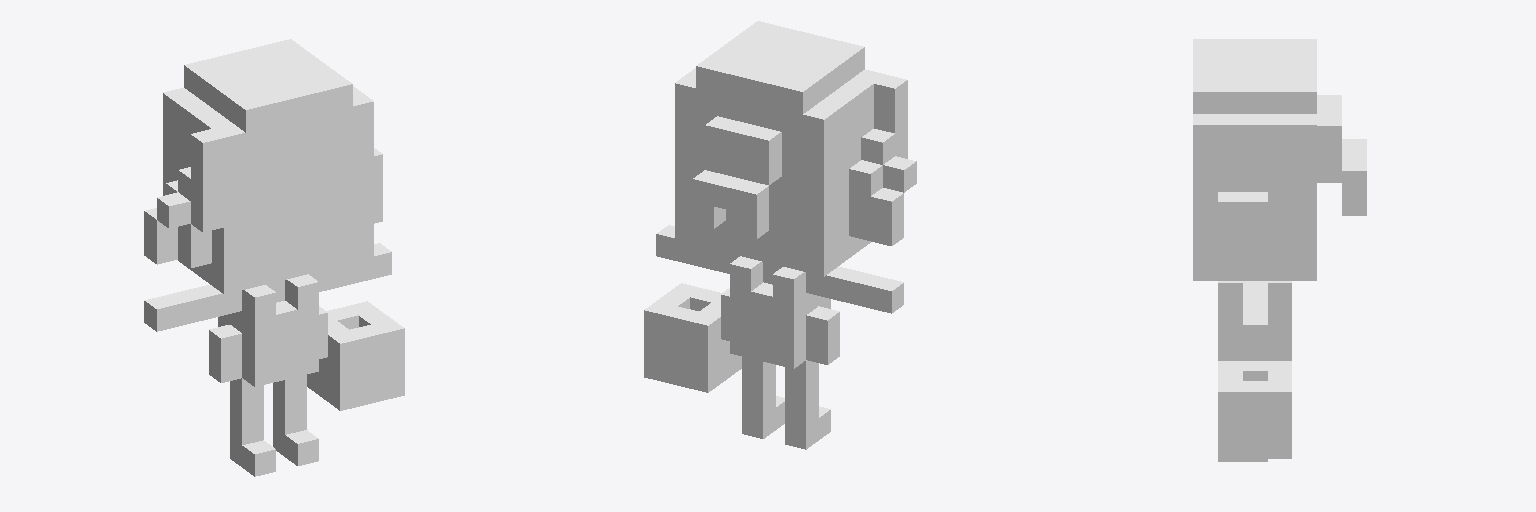
The model's file is robo_model_7.obj.
3 views of the same model, side by side, from view 1: azimuth 30°, elevation 25°; view 2: azimuth 150°, elevation 25°; view 3: azimuth 270°, elevation 25° (orthographic).
Parts seen in each view (by area): view 1: object 1; view 2: object 1; view 3: object 1.
Boxes of the visible parts, x1=… form: object 1: x1=144, y1=39, x2=404, y2=476; object 1: x1=644, y1=21, x2=916, y2=449; object 1: x1=1193, y1=39, x2=1366, y2=461.
Size of the model in its own units: 1.1 by 1.7 by 0.7.